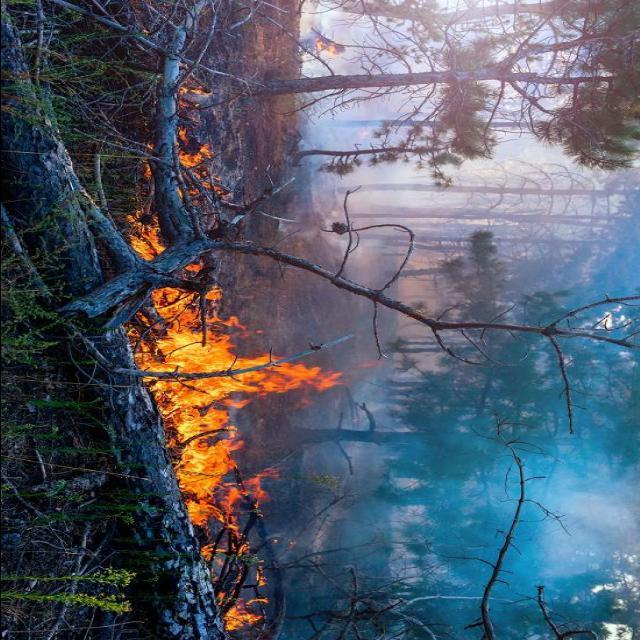Fire: (83, 50, 360, 632)
